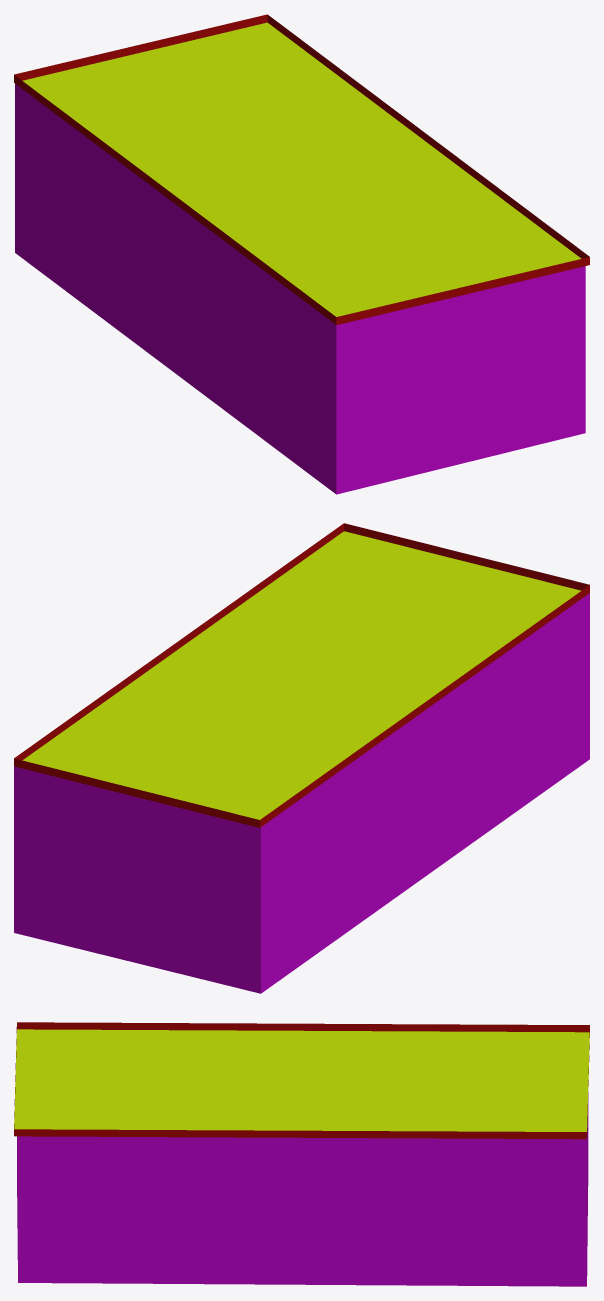
The model's file is vzc_21.glb.
The picture shows the model from 3 angles, top to bottom: view 1: azimuth 30°, elevation 25°; view 2: azimuth 150°, elevation 25°; view 3: azimuth 270°, elevation 25°; orthographic projection. The views are drawn at different scales.
Parts seen in each view (by area): view 1: vzc_21; view 2: vzc_21; view 3: vzc_21.
Boxes of the visible parts, left/top/right/bottom form: vzc_21: left=14, top=14, right=589, bottom=494; vzc_21: left=14, top=523, right=589, bottom=993; vzc_21: left=14, top=1022, right=589, bottom=1286.
Bounding box in the file's own units: 11.61 × 7.62 × 25.73.
